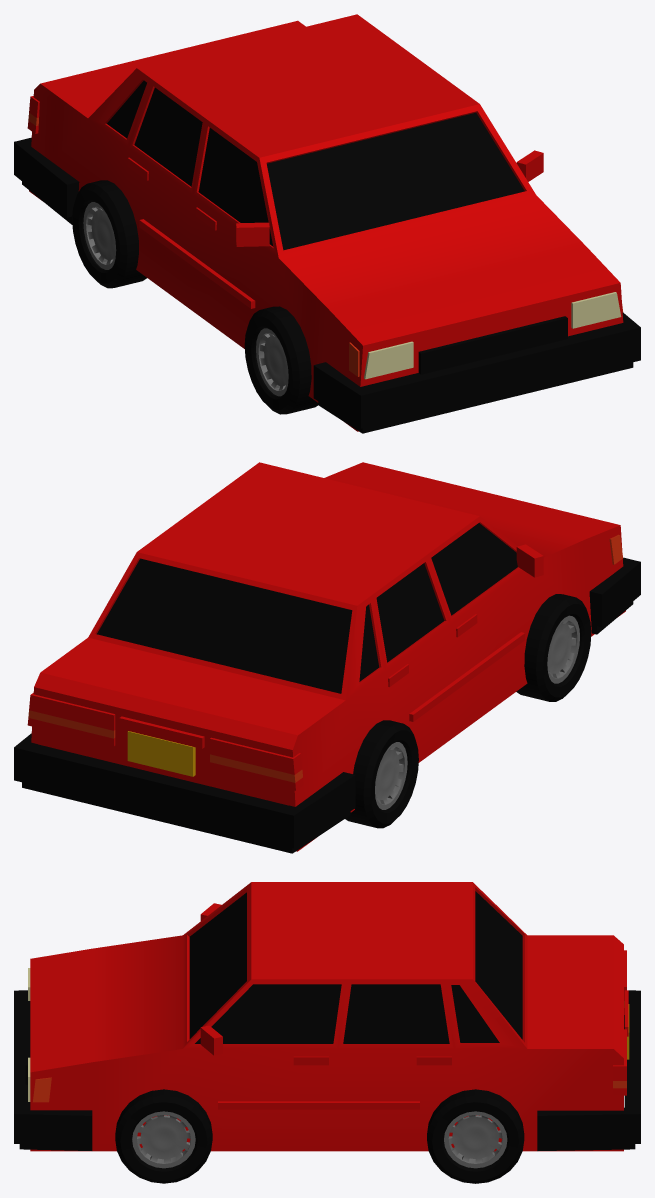
File: Car2.fbx
3 renders of one model, top to bottom at view 1: azimuth 30°, elevation 25°; view 2: azimuth 150°, elevation 25°; view 3: azimuth 270°, elevation 25°, orthographic. The views are drawn at different scales.
Parts seen in each view (by area): view 1: body, Right_FrontWheel, RearWheels; view 2: body, Right_FrontWheel, RearWheels; view 3: body, RearWheels, Left_FrontWheel.
Boxes of the visible parts, x1,y1,x2,y2 form: body: (14,14,640,433); Right_FrontWheel: (244,306,318,414); RearWheels: (72,180,146,288); body: (14,462,640,853); Right_FrontWheel: (516,594,591,701); RearWheels: (345,720,418,828); body: (14,882,640,1151); RearWheels: (427,1089,524,1183); Left_FrontWheel: (115,1089,212,1183).
Bounding box in the file's own units: 229 × 149 × 449.
